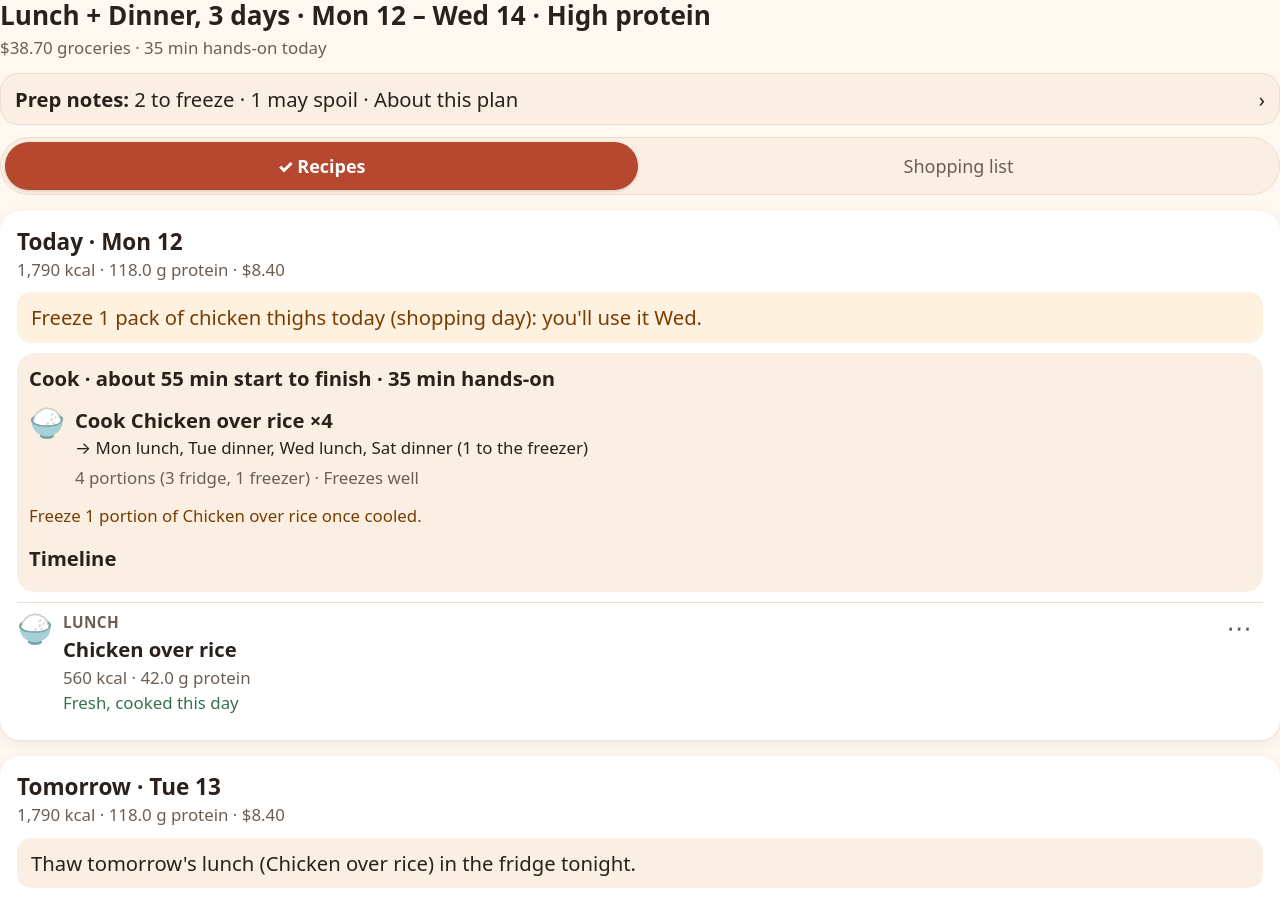
Test: C6: the plan view (step 2b.7) › freeze, spoil and left-out notes sit behind one Prep notes row, never above the days
Check: the text "Left out Spicy beef chili: uses beef" is not shown
Check: the text "may spoil." is not shown
What coordinates should you click on to do the following:
click the button "Prep notes: 2 to freeze · 1 may spoil · About this plan ›"
I would click on:
 (72, 99)
Its box is left=0, top=73, right=1279, bottom=125.
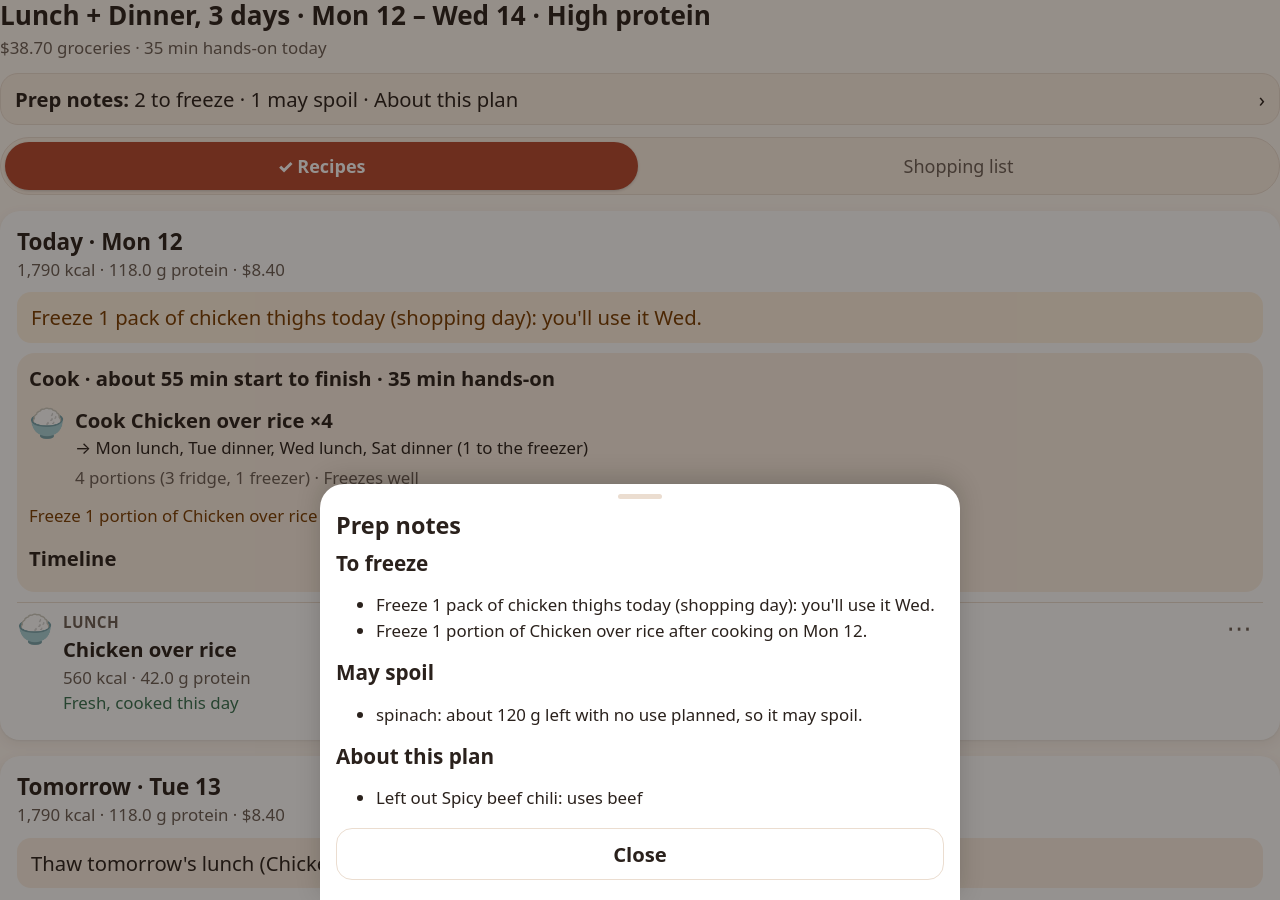
Check: the element "To freeze" shows "Freeze 1 portion of Chicken over rice after cooking on Mon 12.", box left=376, top=619, right=867, bottom=642
Check: the element "May spoil" shows "spinach", box left=376, top=702, right=862, bottom=726
Check: the element "About this plan" shows "Left out Spicy beef chili: uses beef", box left=376, top=786, right=642, bottom=809
